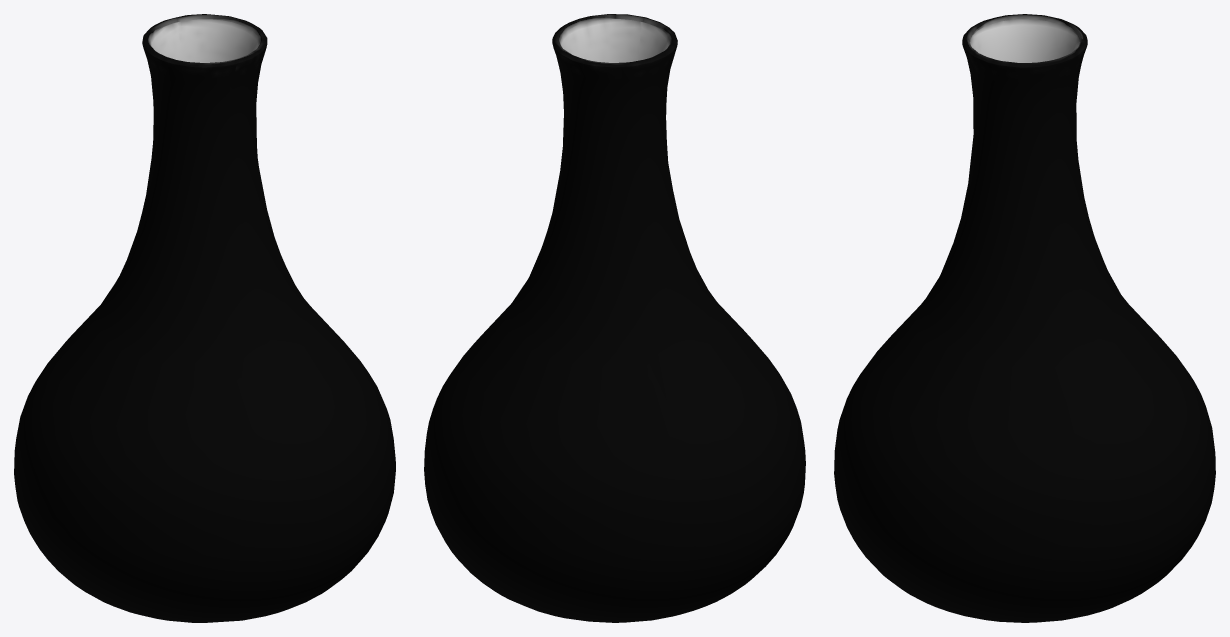
File: studio_decor.glb
3 views of the same model, side by side, from view 1: azimuth 30°, elevation 25°; view 2: azimuth 150°, elevation 25°; view 3: azimuth 270°, elevation 25° (orthographic).
Visible parts, largest first — view 1: Vase; view 2: Vase; view 3: Vase.
Part boxes in pixels (x1,y1,x2,y2): Vase: (14,14,395,622); Vase: (424,14,805,622); Vase: (834,14,1215,622).
Bounding box in the file's own units: 0.2773 × 0.4355 × 0.2772.
1 material, 1 textured.
